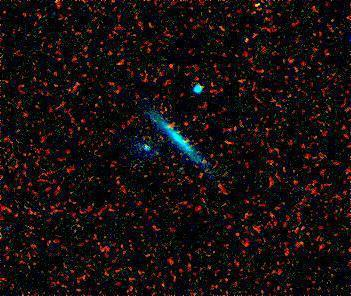star: (188, 165, 218, 195)
